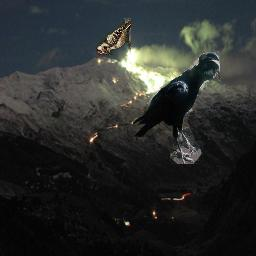Crow: (134, 52, 221, 165)
Woodpecker: (97, 19, 132, 56)
